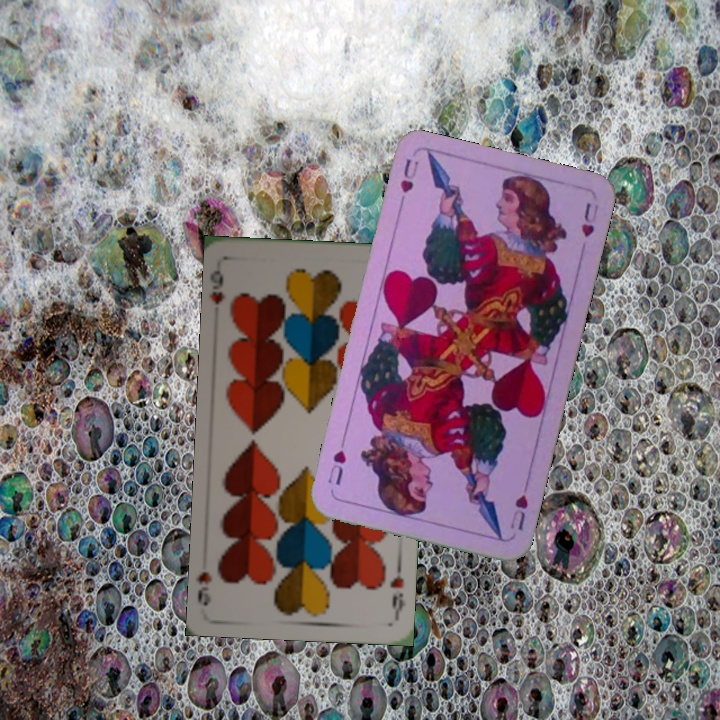H9: (386, 560, 407, 619), (208, 266, 228, 307)
HU: (506, 491, 531, 533), (396, 154, 421, 196)
